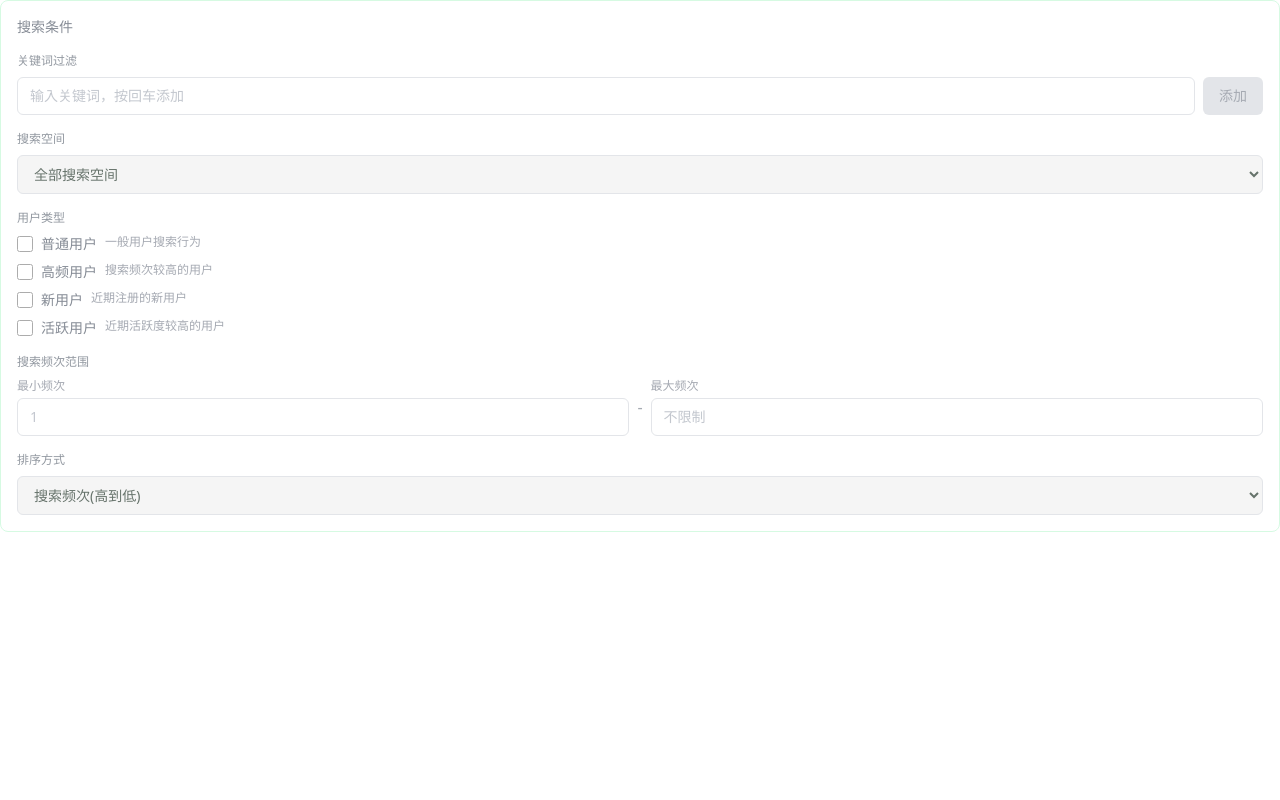
SearchConditionFilter › 清除所有过滤器功能 › 应该在有活跃过滤器时显示清除按钮
Type "测试" into the field with id "keywords" at (606, 96), box [17,77,1195,115]
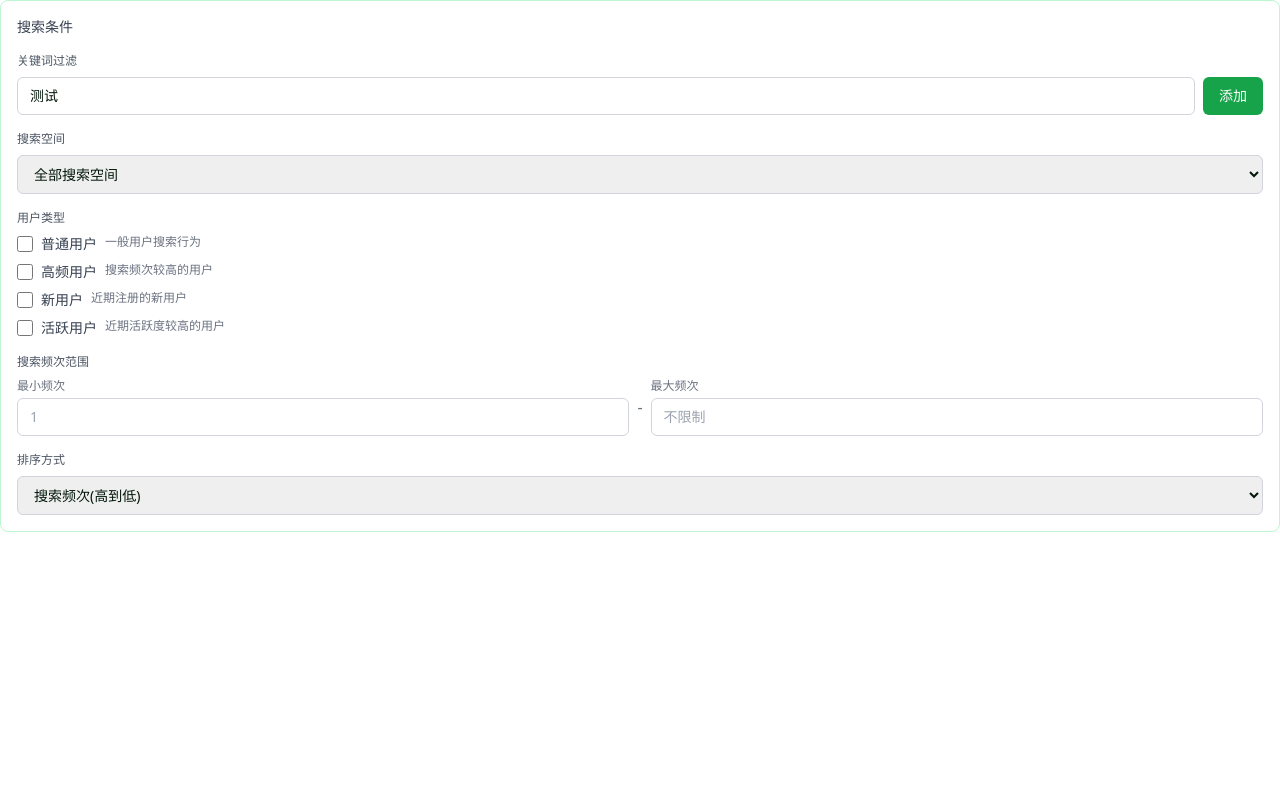
Click the button with class "add-keyword-button" at (1233, 96), box [1203,77,1263,115]
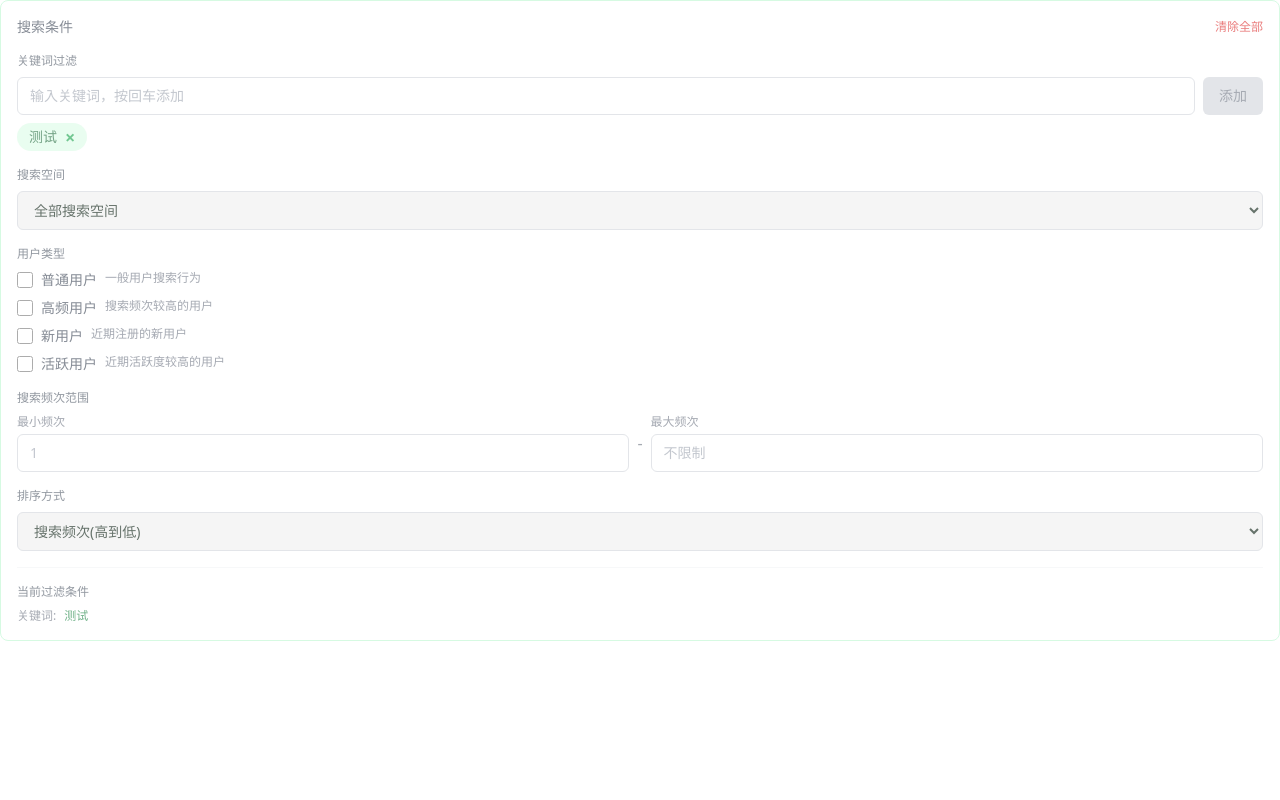
Result: the button with class "search-condition-filter__clear" is shown at [1215,19,1263,35]
